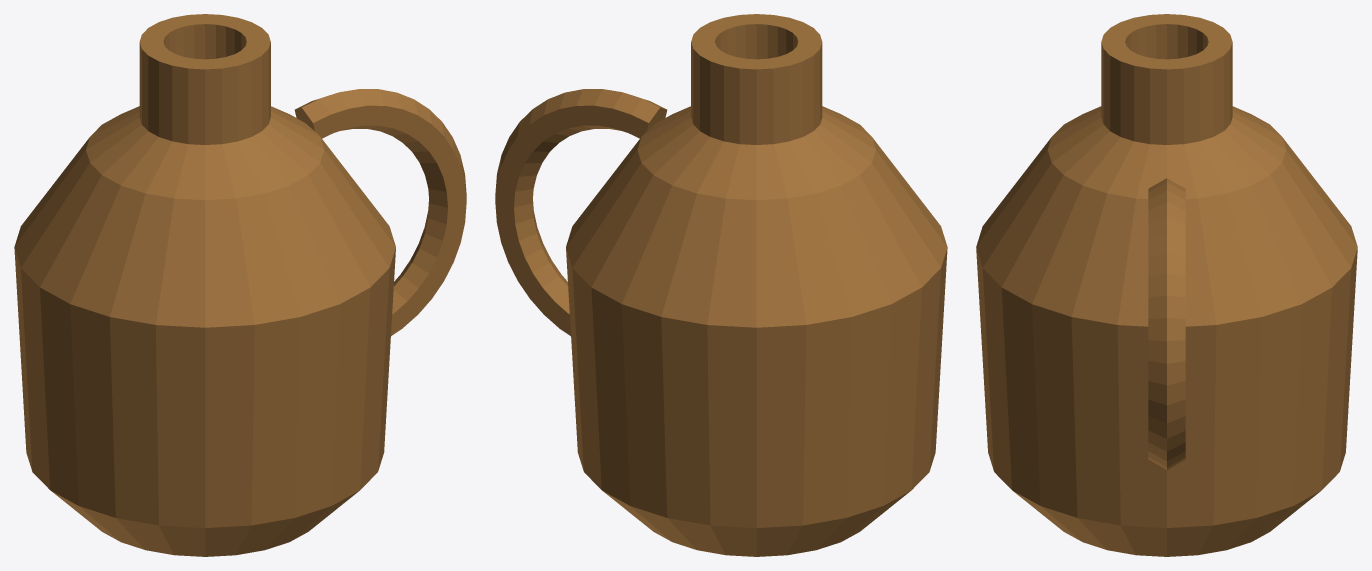
Rendered from kvass_jug.glb.
3 renders of one model, left to right at view 1: azimuth 30°, elevation 25°; view 2: azimuth 150°, elevation 25°; view 3: azimuth 270°, elevation 25°, orthographic.
Parts seen in each view (by area): view 1: kvass_jug • handled field vessel.001; view 2: kvass_jug • handled field vessel.001; view 3: kvass_jug • handled field vessel.001.
Part boxes in pixels (x1=…): kvass_jug • handled field vessel.001: x1=14, y1=14, x2=466, y2=556; kvass_jug • handled field vessel.001: x1=495, y1=14, x2=947, y2=556; kvass_jug • handled field vessel.001: x1=976, y1=14, x2=1357, y2=556.
Bounding box in the file's own units: 0.413 × 0.43 × 0.32.
